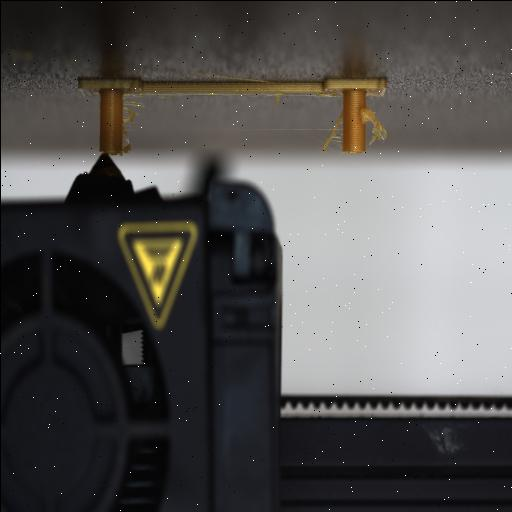stringing: (357, 105, 391, 146), (122, 98, 141, 158)
